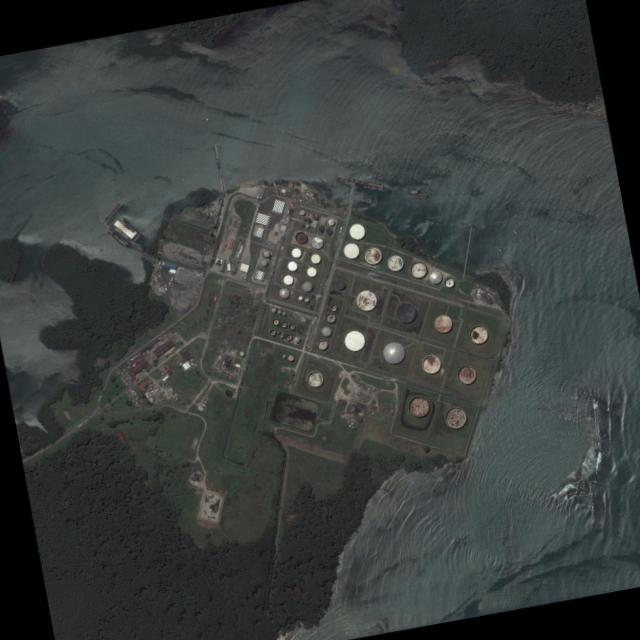large-vehicle: (240, 275, 246, 280), (239, 273, 244, 278), (75, 422, 80, 426), (78, 422, 83, 426), (97, 394, 100, 400), (195, 291, 198, 297), (81, 418, 85, 422), (85, 415, 90, 418), (192, 290, 195, 295), (202, 277, 204, 283), (182, 284, 188, 286), (195, 273, 201, 275), (193, 278, 199, 280), (196, 269, 201, 271), (195, 275, 200, 277), (194, 276, 199, 278), (102, 387, 104, 392), (196, 271, 201, 272), (196, 272, 201, 273)
ship: (106, 226, 129, 247), (367, 181, 383, 189), (412, 192, 426, 196), (410, 189, 417, 192)
storage-tank: (392, 298, 419, 325), (406, 392, 432, 419), (342, 327, 368, 353), (443, 404, 469, 430), (380, 339, 406, 364), (354, 286, 378, 312), (419, 351, 442, 374), (431, 311, 454, 333), (456, 362, 477, 385), (468, 322, 489, 344), (362, 244, 383, 264), (408, 259, 428, 279), (385, 252, 405, 272), (347, 220, 367, 239), (342, 240, 361, 259), (305, 368, 324, 387), (293, 229, 309, 245), (309, 234, 324, 249), (428, 269, 442, 283), (282, 272, 294, 285), (278, 285, 290, 298), (324, 310, 336, 323), (309, 251, 321, 263), (290, 245, 302, 257), (301, 279, 313, 291), (286, 259, 298, 271), (320, 324, 332, 336), (334, 277, 346, 289), (305, 265, 317, 276), (443, 275, 454, 287), (316, 338, 328, 349), (262, 248, 271, 257), (259, 257, 268, 266), (327, 216, 335, 225), (285, 331, 293, 340), (288, 321, 296, 330), (271, 317, 279, 325), (324, 225, 332, 233), (292, 334, 300, 342), (279, 319, 287, 327), (329, 303, 337, 311), (268, 327, 276, 335), (224, 387, 232, 395), (286, 353, 294, 360), (298, 207, 305, 215), (311, 211, 319, 218), (317, 224, 324, 231), (277, 330, 284, 337), (270, 305, 276, 312), (238, 349, 244, 355), (303, 296, 309, 301), (281, 352, 286, 357), (301, 215, 306, 220), (306, 216, 311, 221), (300, 221, 305, 226), (277, 308, 281, 314), (298, 294, 302, 299), (281, 310, 286, 314), (305, 222, 309, 227)
